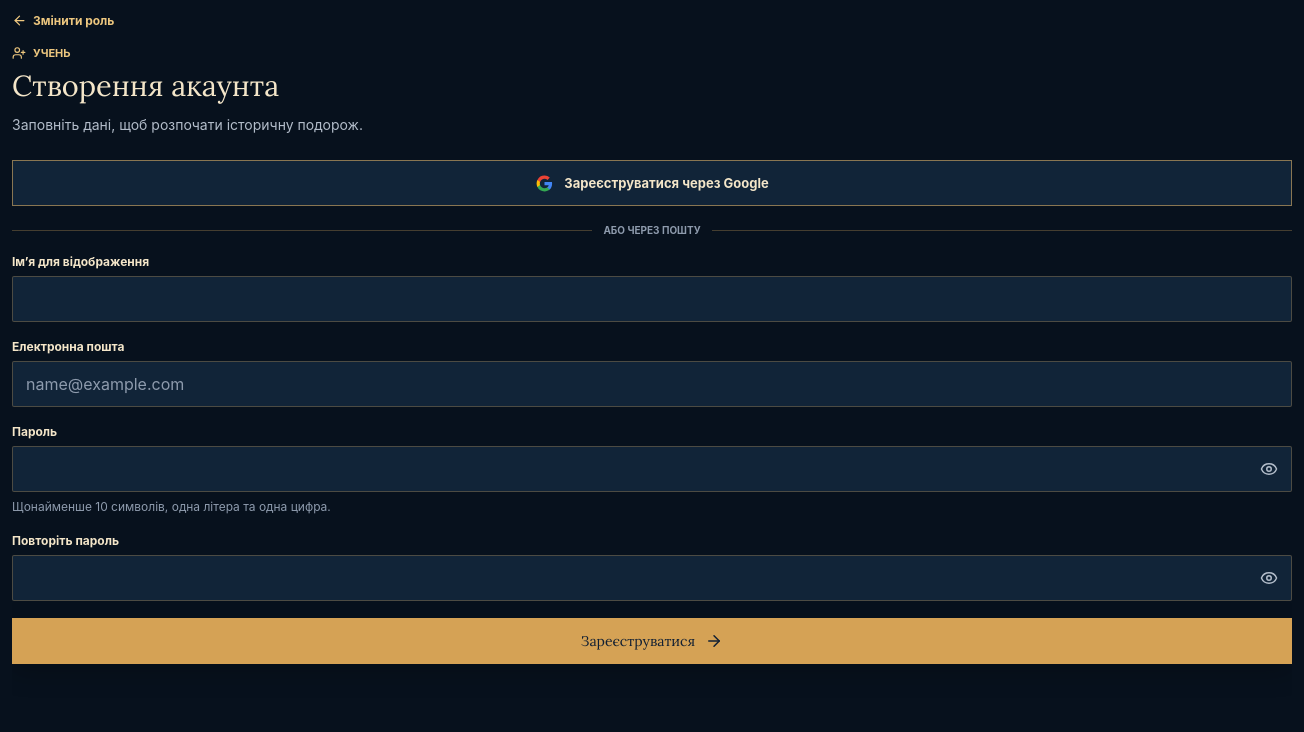
Test: registration flow › registers the selected role and opens the verification screen
This screenshot has width=1304, height=732.
Type "Олена" into the field labelled "Ім’я для відображення" at (652, 300), box [12,276,1292,322]
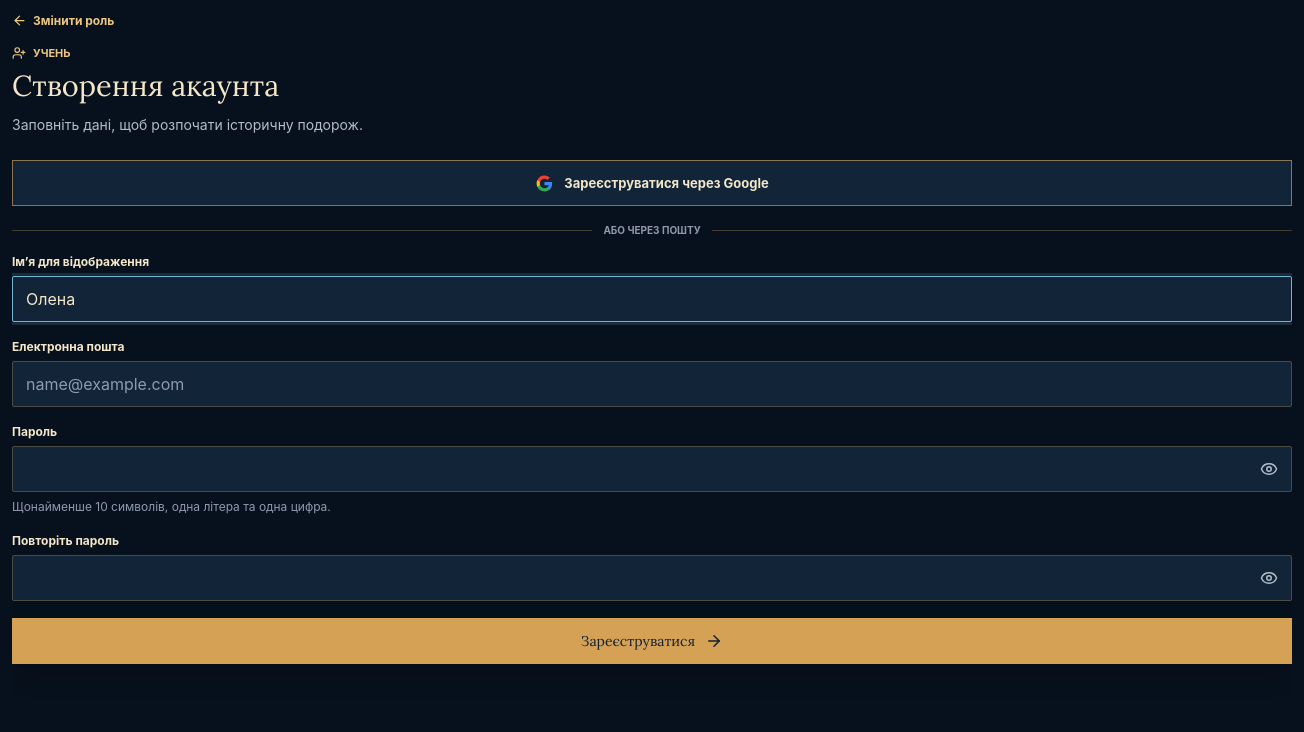
Type "student@example.com" into the field labelled "Електронна пошта" at (652, 384), box [12,362,1292,408]
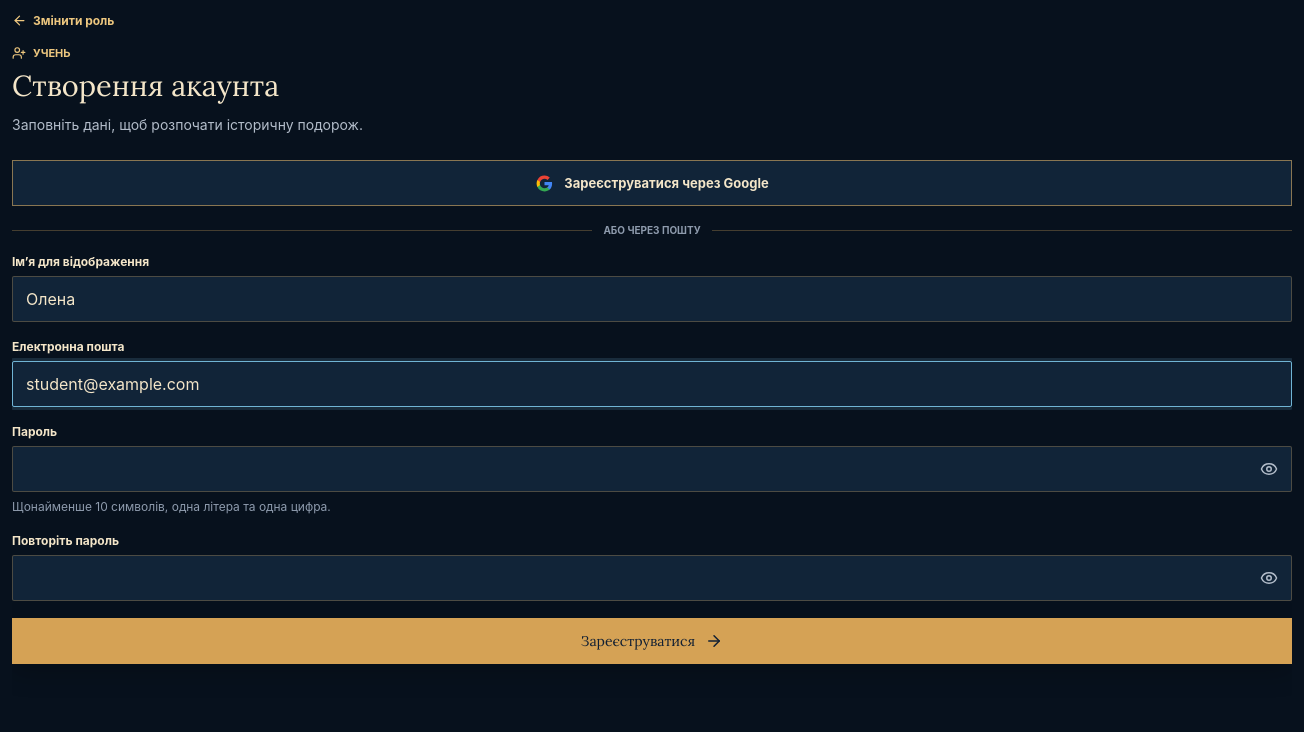
Type "Secret1234" into the password field labelled "Пароль" at (652, 470), box [12,446,1292,492]
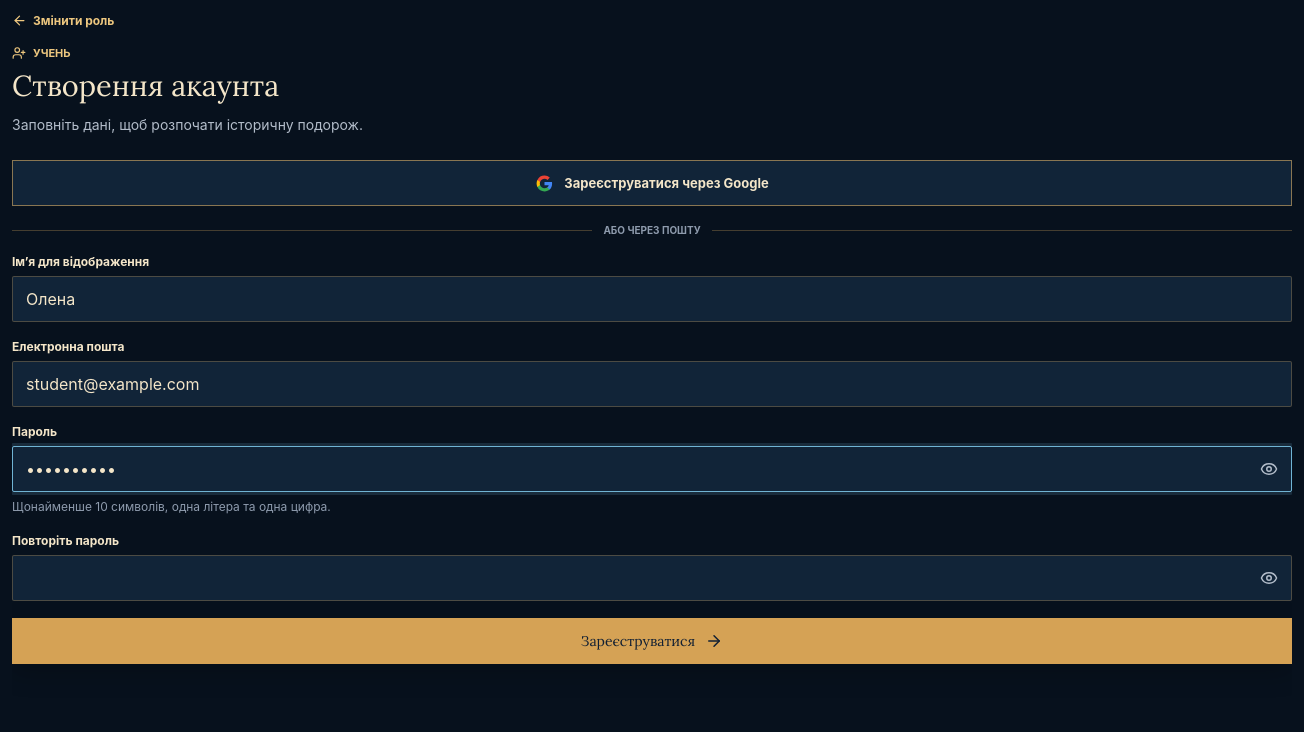
Type "Secret1234" into the password field labelled "Повторіть пароль" at (652, 578), box [12,555,1292,601]
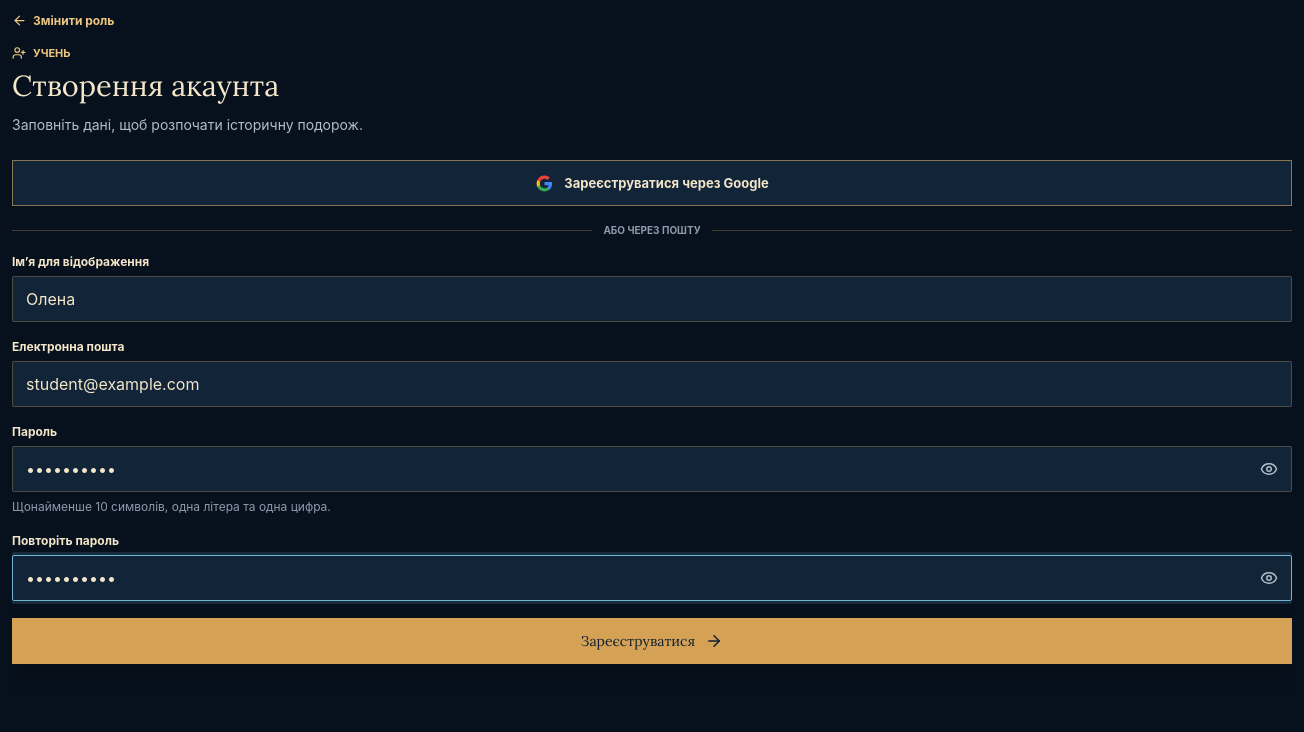
Click the button "Зареєструватися" at (652, 641), box [12,618,1292,664]
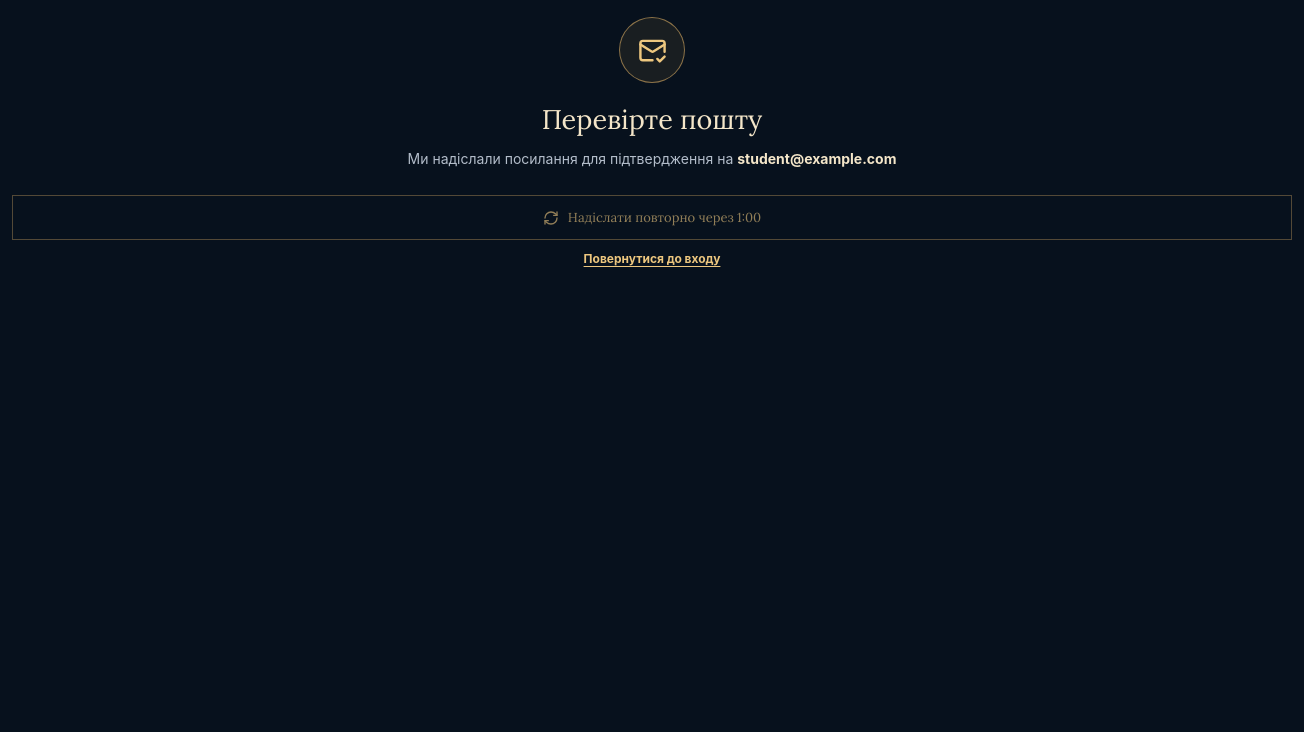
Expected: the heading "Перевірте пошту" is shown, [542,103,762,136]
Expected: the text "student@example.com" is shown, [737,150,896,167]
Expected: the button "Надіслати повторно через 1:00" is disabled, [12,195,1292,240]
